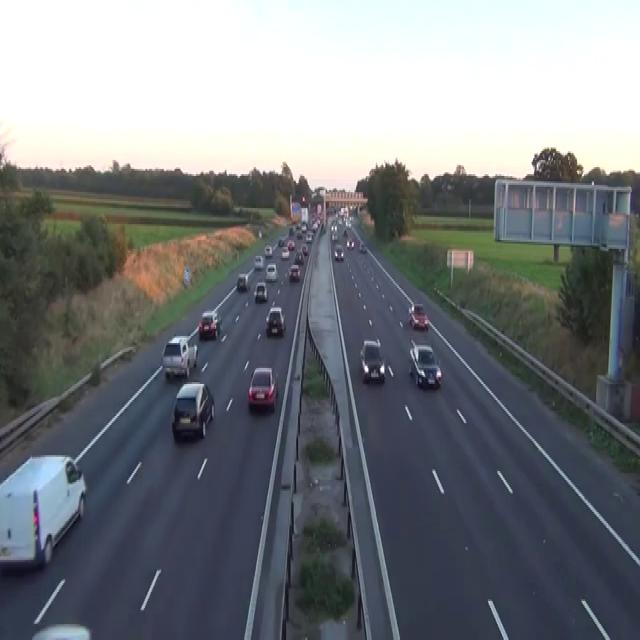Car: (0, 453, 87, 571), (171, 381, 214, 439), (408, 340, 442, 390), (162, 334, 197, 379), (247, 366, 278, 409), (359, 338, 385, 382), (31, 624, 90, 638), (198, 310, 221, 340), (265, 306, 285, 336), (408, 302, 428, 331), (253, 281, 268, 302), (265, 263, 278, 281), (236, 272, 249, 290), (212, 310, 222, 332), (289, 263, 300, 281), (333, 243, 344, 260), (254, 254, 263, 268), (294, 251, 303, 265), (281, 246, 289, 260), (358, 240, 366, 252), (264, 244, 272, 256), (346, 238, 354, 249), (305, 231, 313, 242), (331, 231, 338, 242), (287, 240, 295, 249), (278, 237, 285, 247), (301, 244, 308, 254), (311, 222, 318, 231), (330, 222, 337, 231), (345, 218, 351, 228), (321, 222, 326, 233), (301, 222, 307, 231), (337, 218, 342, 228), (288, 226, 294, 234), (296, 230, 302, 238), (258, 230, 262, 238), (343, 228, 347, 236)
